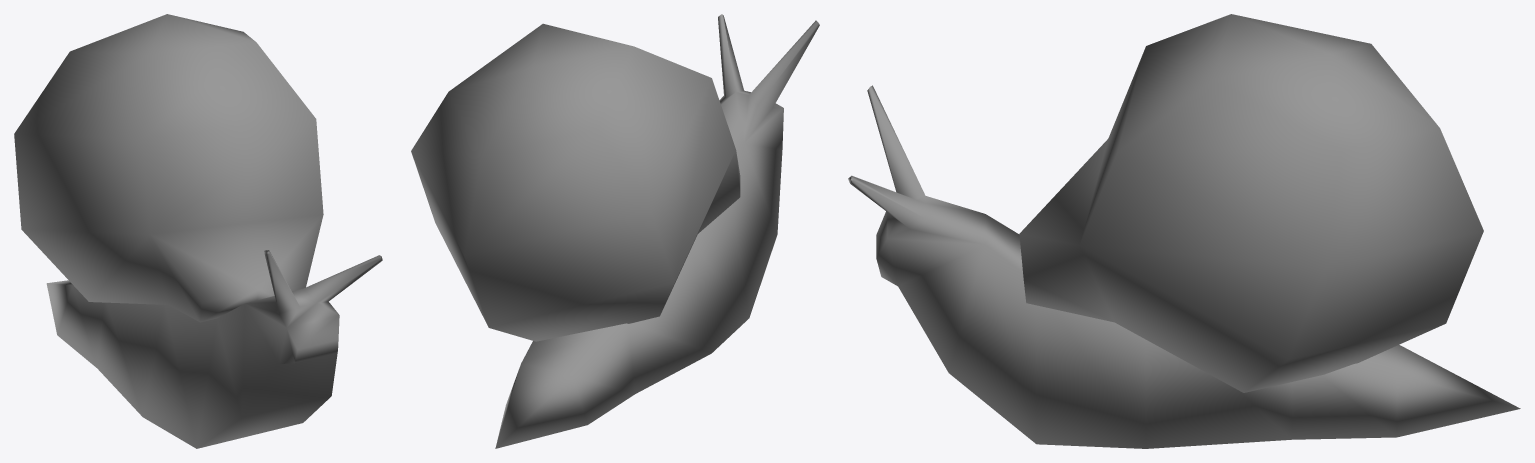
The model's file is dskrg.fbx.
The picture shows the model from 3 angles, left to right: view 1: azimuth 30°, elevation 25°; view 2: azimuth 150°, elevation 25°; view 3: azimuth 270°, elevation 25°; orthographic projection. The views are drawn at different scales.
Parts seen in each view (by area): view 1: dskrg_Mesh_001; view 2: dskrg_Mesh_001; view 3: dskrg_Mesh_001.
Boxes of the visible parts, left/top/right/bottom form: dskrg_Mesh_001: left=14, top=14, right=382, bottom=448; dskrg_Mesh_001: left=411, top=14, right=819, bottom=448; dskrg_Mesh_001: left=848, top=14, right=1520, bottom=448.
Bounding box in the file's own units: 8.68 × 10.01 × 15.71.
